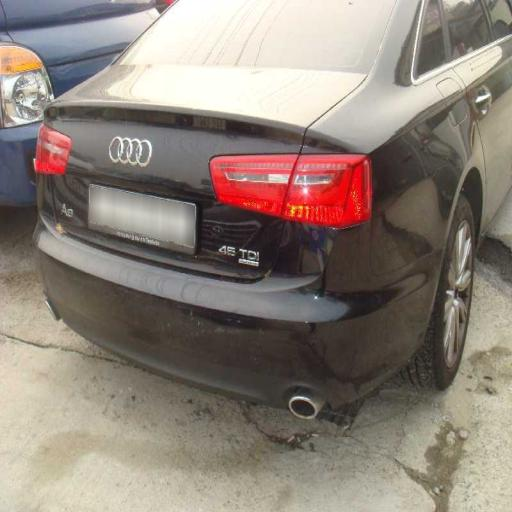scratch: (126, 248, 310, 375)
